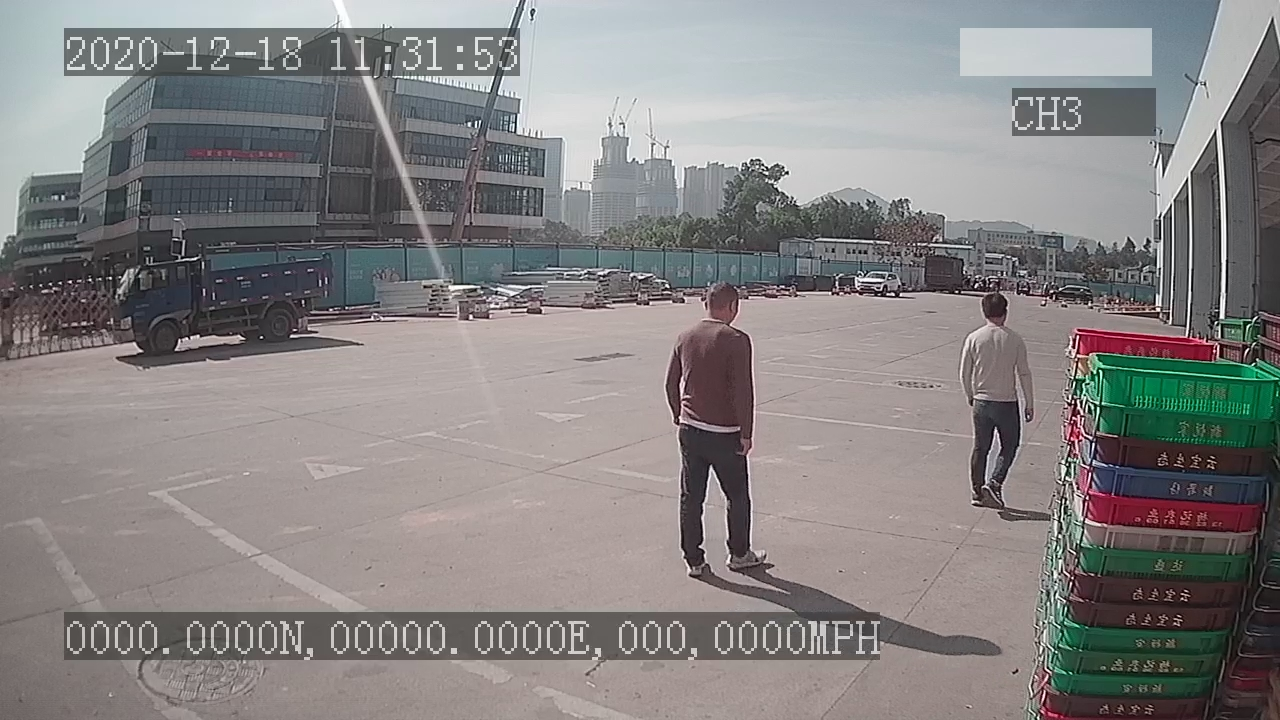person: (666, 273, 777, 578), (957, 290, 1036, 512)
